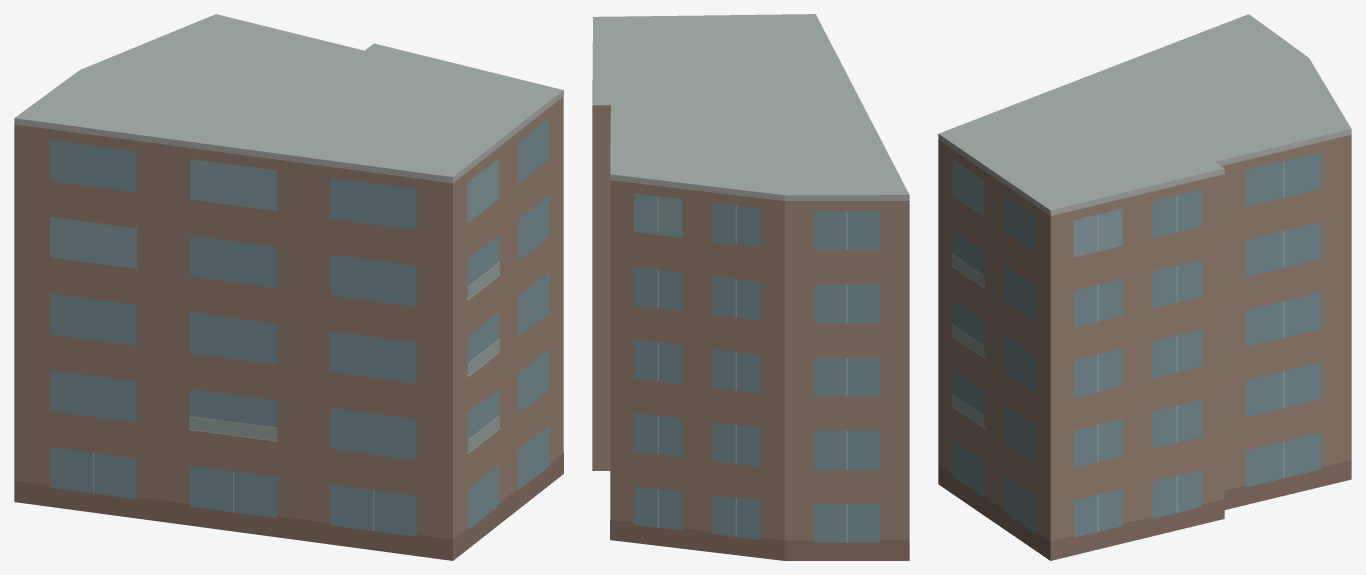
The model's file is survey-upis-32499905.glb.
The picture shows the model from 3 angles, left to right: view 1: azimuth 30°, elevation 25°; view 2: azimuth 150°, elevation 25°; view 3: azimuth 270°, elevation 25°; orthographic projection. The views are drawn at different scales.
Visible parts, largest first — view 1: survey-upis-32499905.tmp; view 2: survey-upis-32499905.tmp; view 3: survey-upis-32499905.tmp.
Part boxes in pixels (x1,y1,x2,y2): survey-upis-32499905.tmp: (14, 14, 563, 560); survey-upis-32499905.tmp: (592, 14, 909, 560); survey-upis-32499905.tmp: (938, 14, 1351, 560).
Size of the model in its own units: 18.16 by 15.1 by 16.15.
